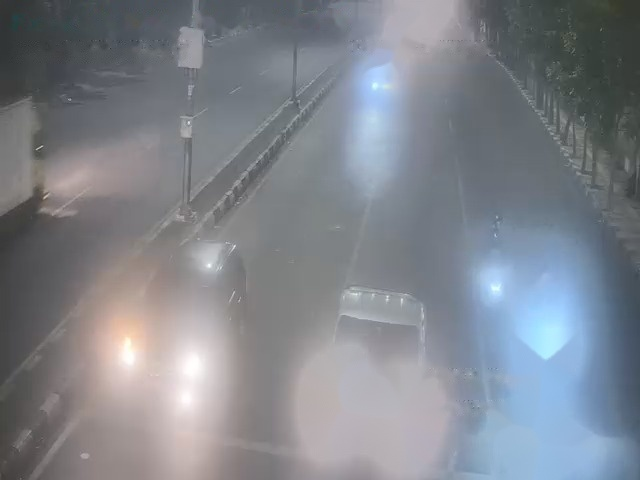Mobil: (124, 244, 245, 417), (323, 272, 431, 422)
Motor: (486, 261, 502, 308)
Truk: (0, 98, 43, 229)
